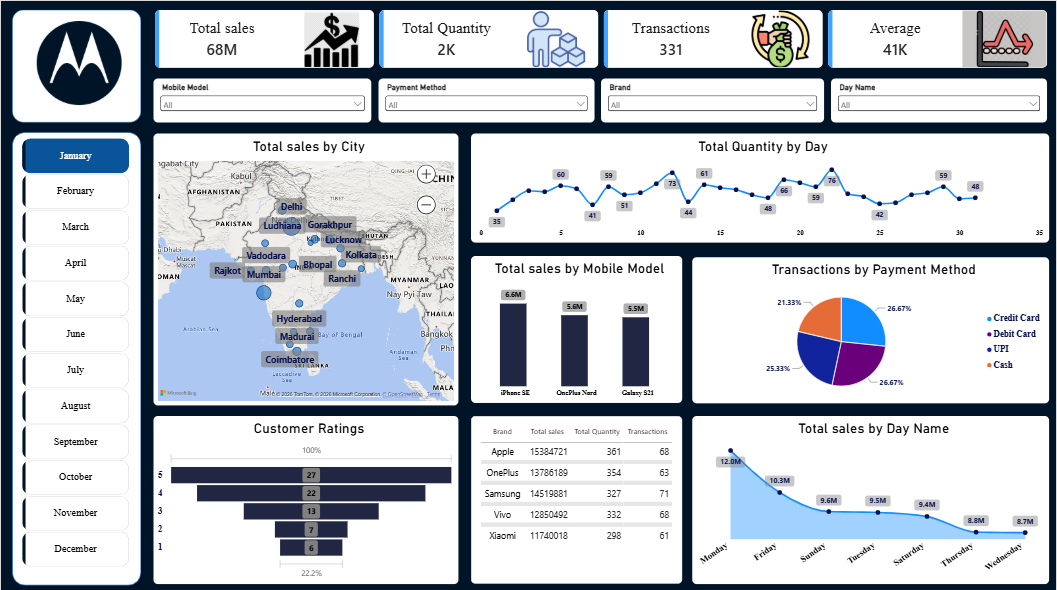

Layout of this report page (visuals, bound fields, positions):
{"tool":"powerbi","page":{"name":"Page 1","canvas":[1920,1080],"ordinal":0},"visuals":[{"type":"shape","box":[11.4,6.8,252.3,223],"z":0},{"type":"image","box":[38.6,36.4,207.3,152.7],"z":1000},{"type":"shape","box":[11.4,229.5,252.3,842],"z":2000},{"type":"advancedSlicerVisual","fields":{"Values":["Sales_Data.Date.Variation.Date Hierarchy.Month"]},"box":[38.6,250,194.5,787.3],"z":3000},{"type":"cardVisual","fields":{"Data":["Sales_Data.Total sales","Sales_Data.Total Quantity","Sales_Data.Transactions","Sales_Data.Average"]},"box":[276.4,14.5,1629.1,110.9],"z":4000},{"type":"map","fields":{"Category":["Sales_Data.City"],"Size":["Sales_Data.Total sales"]},"box":[276.4,240,554.5,494.5],"z":5000},{"type":"lineChart","fields":{"Category":["Sales_Data.Date.Variation.Date Hierarchy.Month","Sales_Data.Date.Variation.Date Hierarchy.Day"],"Y":["Sales_Data.Total Quantity"]},"box":[854.5,241.8,1050.9,198.2],"z":6000},{"type":"clusteredColumnChart","fields":{"Category":["Sales_Data.Mobile Model"],"Y":["Sales_Data.Total sales"]},"box":[854.5,463.6,383.6,267.3],"z":7000},{"type":"pieChart","fields":{"Category":["Sales_Data.Payment Method"],"Y":["Sales_Data.Transactions"]},"box":[1256.4,465.5,649.1,265.5],"z":8000},{"type":"funnel","title":" Customer Ratings ","fields":{"Category":["Sales_Data.Customer Ratings"],"Y":["CountNonNull(Sales_Data.Customer Ratings)"]},"box":[276.4,754.5,554.5,305.5],"z":9000},{"type":"areaChart","fields":{"Category":["Sales_Data.Day Name"],"Y":["Sales_Data.Total sales"]},"box":[1256.4,754.5,649.1,305.5],"z":10000},{"type":"tableEx","fields":{"Values":["Sales_Data.Brand","Sales_Data.Total sales","Sales_Data.Total Quantity","Sales_Data.Transactions"]},"box":[855,755,384,305],"z":11000},{"type":"slicer","fields":{"Values":["Sales_Data.Mobile Model"]},"box":[276.4,141.8,396.4,80],"z":13000},{"type":"slicer","fields":{"Values":["Sales_Data.Payment Method"]},"box":[685.5,141.8,392.7,80],"z":14000},{"type":"slicer","fields":{"Values":["Sales_Data.Brand"]},"box":[1090.9,141.8,405.5,80],"z":15000},{"type":"slicer","fields":{"Values":["Sales_Data.Day Name"]},"box":[1509.1,141.8,392.7,80],"z":16000}]}

Visuals, with their boxes in screenshot pixels (x1, y1, x2, y2), scaled from the page's 1920x1080 canvas onto the 1057x590 screenshot:
shape: 6/4/145/126
image: 21/20/135/103
shape: 6/125/145/585
advancedSlicerVisual - Sales_Data.Date.Variation.Date Hierarchy.Month: 21/137/128/567
cardVisual - Sales_Data.Total sales x Sales_Data.Total Quantity: 152/8/1049/69
map - Sales_Data.City x Sales_Data.Total sales: 152/131/457/401
lineChart - Sales_Data.Date.Variation.Date Hierarchy.Month x Sales_Data.Date.Variation.Date Hierarchy.Day: 470/132/1049/240
clusteredColumnChart - Sales_Data.Mobile Model x Sales_Data.Total sales: 470/253/682/399
pieChart - Sales_Data.Payment Method x Sales_Data.Transactions: 692/254/1049/399
" Customer Ratings " funnel: 152/412/457/579
areaChart - Sales_Data.Day Name x Sales_Data.Total sales: 692/412/1049/579
tableEx - Sales_Data.Brand x Sales_Data.Total sales: 471/412/682/579
slicer - Sales_Data.Mobile Model: 152/77/370/121
slicer - Sales_Data.Payment Method: 377/77/594/121
slicer - Sales_Data.Brand: 601/77/824/121
slicer - Sales_Data.Day Name: 831/77/1047/121
